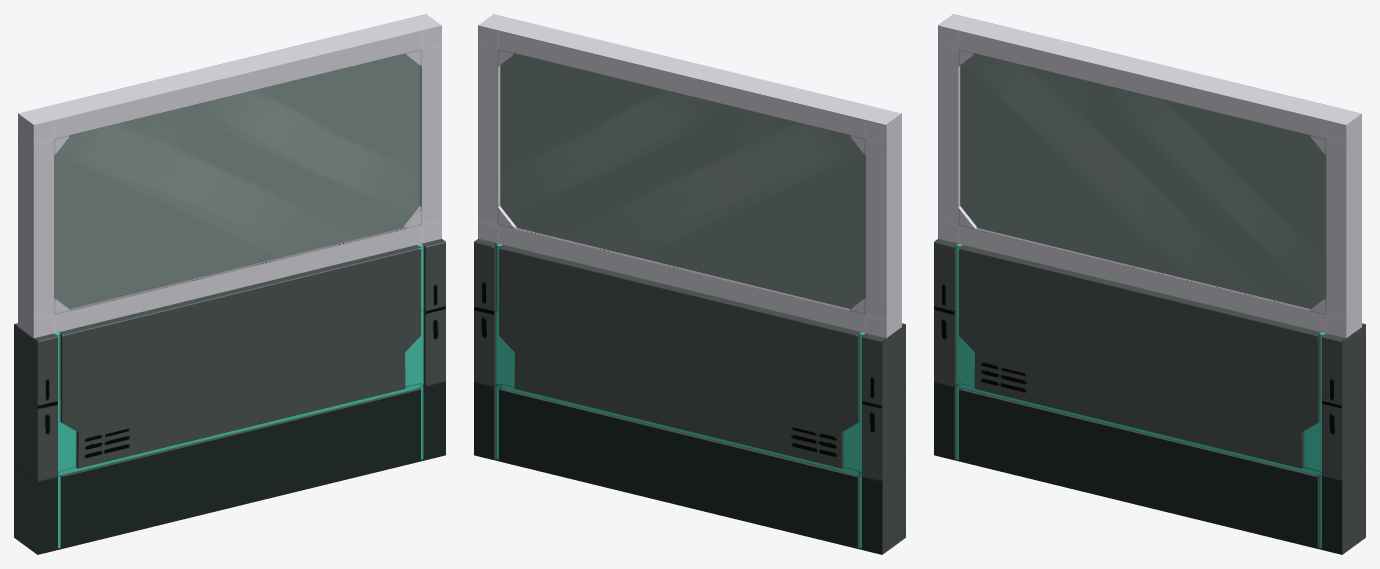
The model's file is Wall bos.fbx.
The picture shows the model from 3 angles, left to right: view 1: azimuth 30°, elevation 25°; view 2: azimuth 150°, elevation 25°; view 3: azimuth 330°, elevation 25°; orthographic projection.
Parts seen in each view (by area): view 1: Cube, Cube.002; view 2: Cube, Cube.002; view 3: Cube, Cube.002.
Boxes of the visible parts, left/top/right/bottom form: Cube: left=14, top=14, right=445, bottom=554; Cube.002: left=54, top=53, right=419, bottom=308; Cube: left=474, top=14, right=905, bottom=554; Cube.002: left=500, top=53, right=865, bottom=308; Cube: left=934, top=14, right=1365, bottom=554; Cube.002: left=960, top=53, right=1326, bottom=308.
Bounding box in the file's own units: 300 × 300 × 30.
